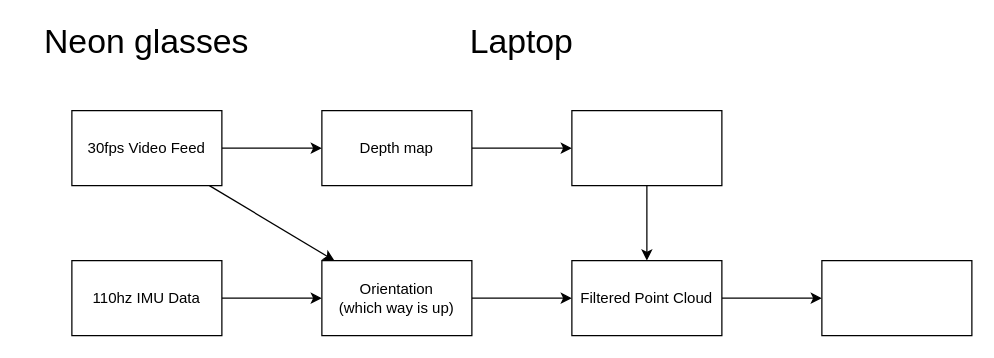
Image size: 994x358. Some labels were removed from this diagram. The shapes that lost their labels are listed below. From the top down, each one's centre as x and y in pixels, then its label:
(x=646, y=147): Initial Point Cloud
(x=896, y=297): Project Point Cloud
